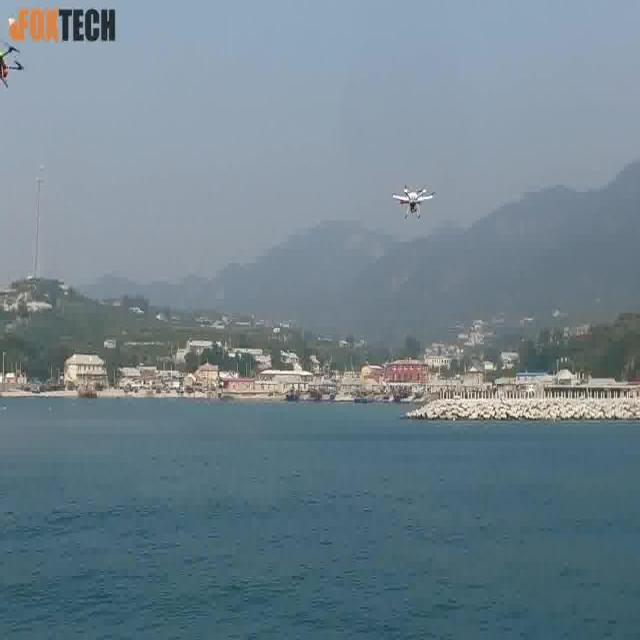drone: (385, 174, 445, 222)
